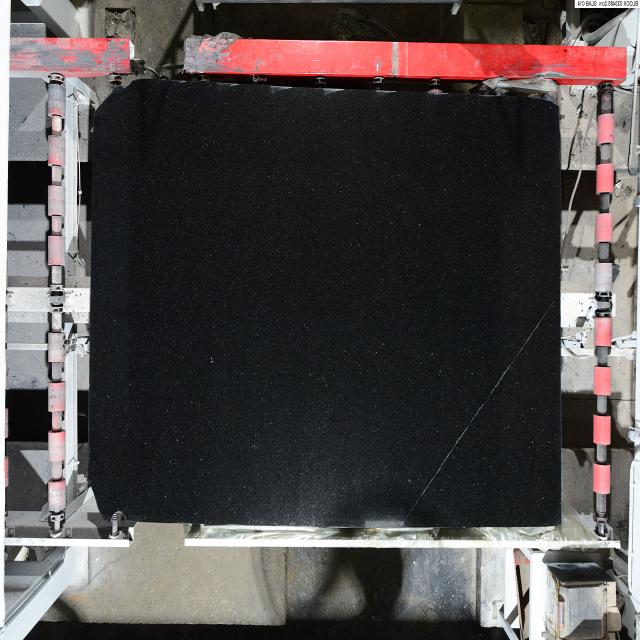chapa: (89, 81, 561, 527)
